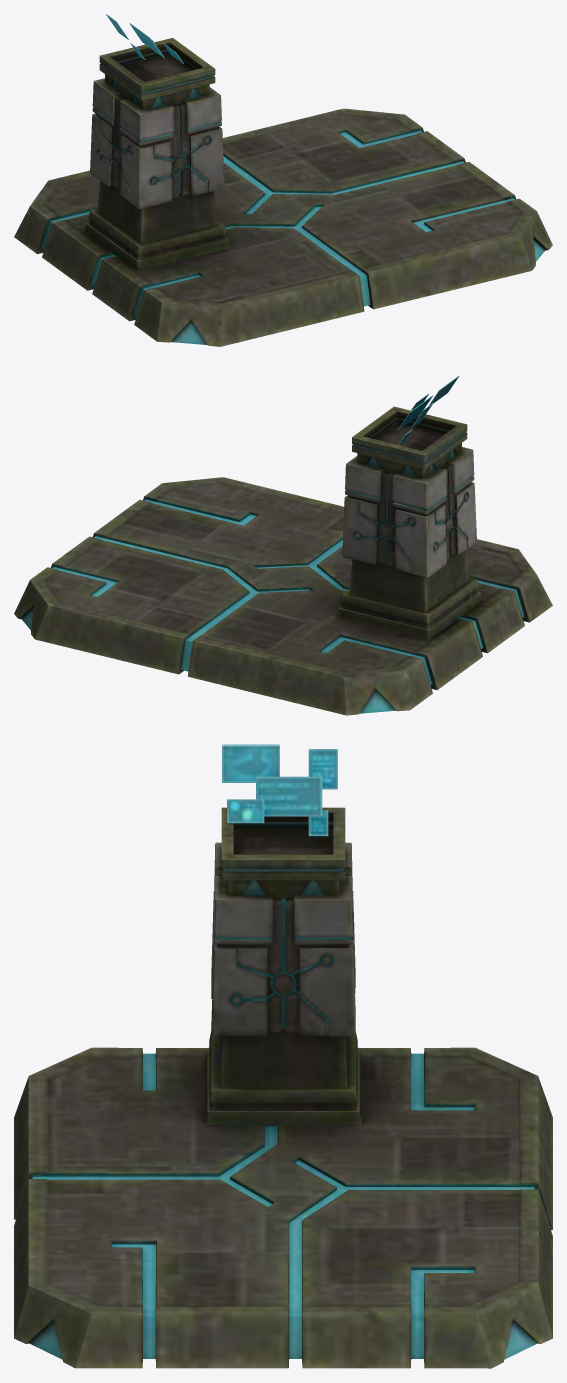
File: SM_Laboratory_9474b6.glb
The picture shows the model from 3 angles, top to bottom: view 1: azimuth 30°, elevation 25°; view 2: azimuth 150°, elevation 25°; view 3: azimuth 270°, elevation 25°; orthographic projection. The views are drawn at different scales.
Size of the model in its own units: 2.77 by 1.72 by 2.25.
2 materials, 2 textured.
